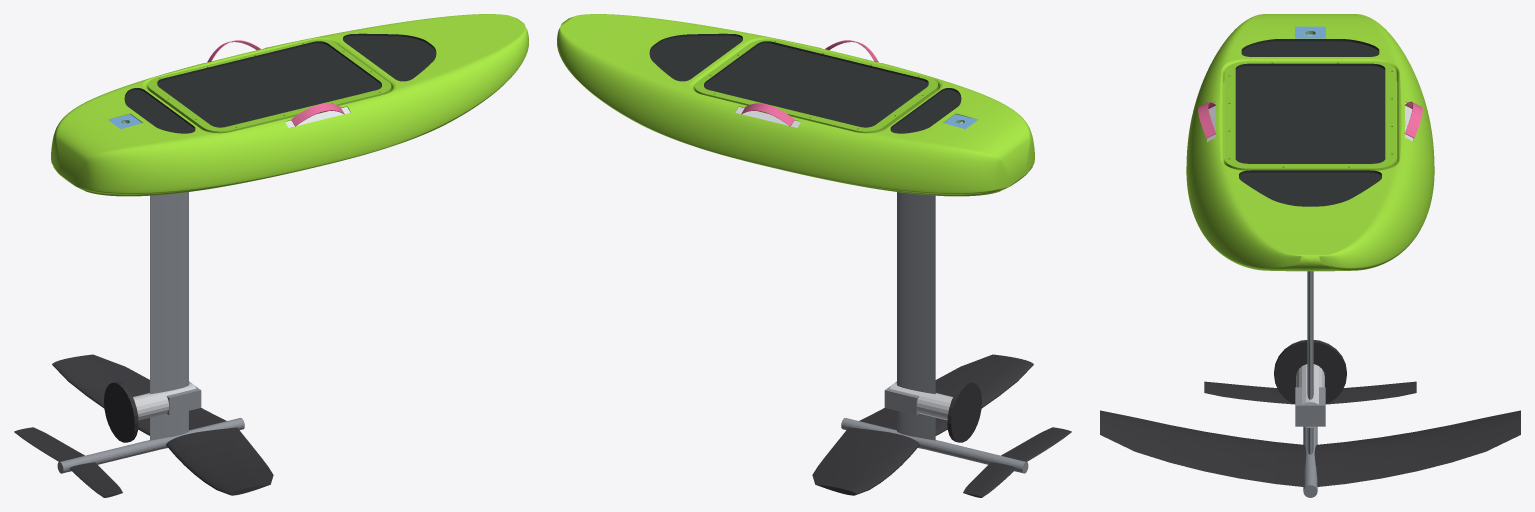
File: efoil.glb
The picture shows the model from 3 angles, left to right: view 1: azimuth 30°, elevation 25°; view 2: azimuth 150°, elevation 25°; view 3: azimuth 270°, elevation 25°; orthographic projection. The views are drawn at different scales.
Visible parts, largest first — view 1: Hull, DeckPad_Lid, Foil_Mast, Foil_FrontWing, DeckPad_Fwd, Lid, Foil_Stab, Foil_Fuselage, Foil_Prop, DeckPad_Aft, Foil_Motor, Foil_MotorClamp; view 2: Hull, DeckPad_Lid, Foil_Mast, Foil_FrontWing, DeckPad_Fwd, Lid, Foil_Stab, Foil_Fuselage, Foil_Prop, DeckPad_Aft, Foil_Motor, Foil_MotorClamp; view 3: Hull, Foil_FrontWing, DeckPad_Lid, DeckPad_Fwd, Lid, Foil_Prop, Foil_Stab, DeckPad_Aft, Foil_Mast, Foil_MotorClamp, Foil_Fuselage, Foil_Motor.
Part boxes in pixels (x1,y1,x2,y2): Hull: [51, 14, 528, 196]; DeckPad_Lid: [157, 41, 381, 127]; Foil_Mast: [150, 192, 188, 448]; Foil_FrontWing: [52, 354, 273, 495]; DeckPad_Fwd: [343, 33, 436, 81]; Lid: [148, 39, 391, 133]; Foil_Stab: [14, 427, 122, 497]; Foil_Fuselage: [57, 418, 244, 473]; Foil_Prop: [104, 382, 138, 442]; DeckPad_Aft: [124, 88, 195, 133]; Foil_Motor: [133, 383, 196, 420]; Foil_MotorClamp: [167, 381, 201, 415]; Hull: [557, 14, 1034, 196]; DeckPad_Lid: [704, 41, 928, 127]; Foil_Mast: [897, 192, 935, 448]; Foil_FrontWing: [812, 354, 1033, 495]; DeckPad_Fwd: [649, 33, 742, 81]; Lid: [694, 39, 937, 133]; Foil_Stab: [963, 427, 1071, 497]; Foil_Fuselage: [841, 418, 1028, 473]; Foil_Prop: [947, 382, 981, 442]; DeckPad_Aft: [890, 88, 961, 133]; Foil_Motor: [889, 383, 952, 420]; Foil_MotorClamp: [884, 381, 918, 415]; Hull: [1186, 14, 1434, 271]; Foil_FrontWing: [1100, 410, 1520, 486]; DeckPad_Lid: [1235, 63, 1385, 163]; DeckPad_Fwd: [1239, 170, 1381, 206]; Lid: [1224, 61, 1396, 170]; Foil_Prop: [1274, 340, 1346, 404]; Foil_Stab: [1204, 381, 1416, 404]; DeckPad_Aft: [1241, 39, 1379, 56]; Foil_Mast: [1307, 271, 1313, 454]; Foil_MotorClamp: [1295, 387, 1325, 426]; Foil_Fuselage: [1303, 426, 1317, 497]; Foil_Motor: [1296, 364, 1324, 427].
Bounding box in the file's own units: 1.43 × 1.03 × 0.95.
